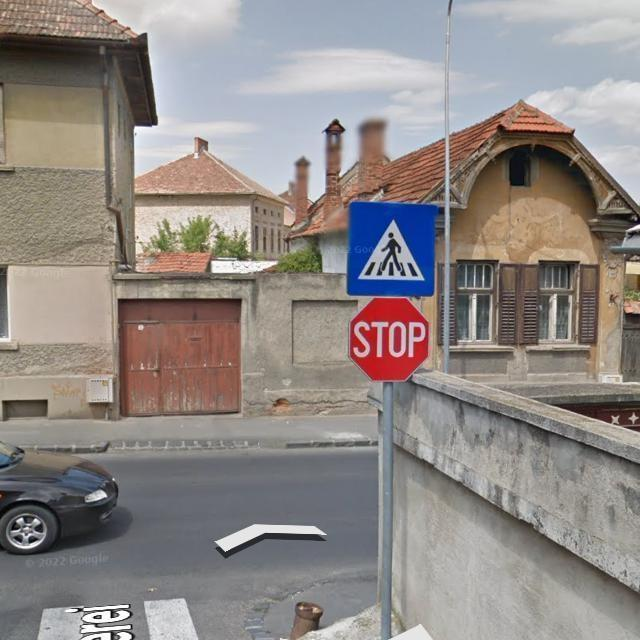info_crosswalk: (346, 199, 437, 297)
prio_stop: (346, 298, 426, 379)
